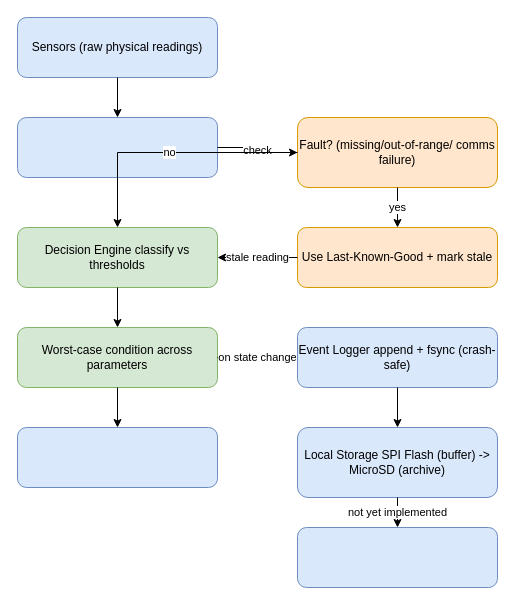
This 515x605 diagram has some shape labels left out. The shapes that lost their labels are listed below. From the top down, each one's box as (x1, y1, x2, y2) in pixels, then its label:
(16, 116, 218, 178): Sensor Manager read + validate + retry
(16, 426, 218, 488): Alert Manager LED + Buzzer state
(296, 526, 498, 588): Cloud Sync (future) Wi-Fi/BLE uplink
